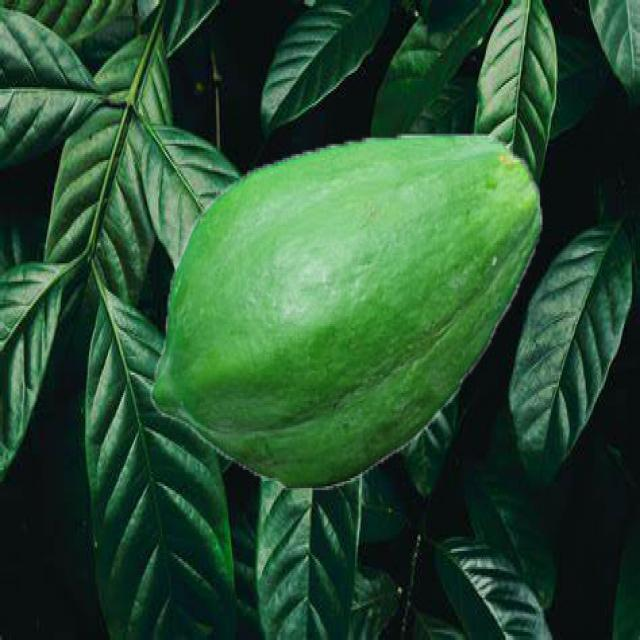Pepaya unrippen: (135, 122, 546, 496)
